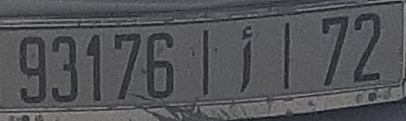1: (83, 33, 104, 102)
2: (352, 11, 383, 82)
3: (50, 34, 80, 102)
6: (146, 32, 176, 99)
7: (320, 14, 350, 87), (113, 32, 142, 102)
9: (17, 34, 48, 104)
a: (237, 24, 255, 95)
